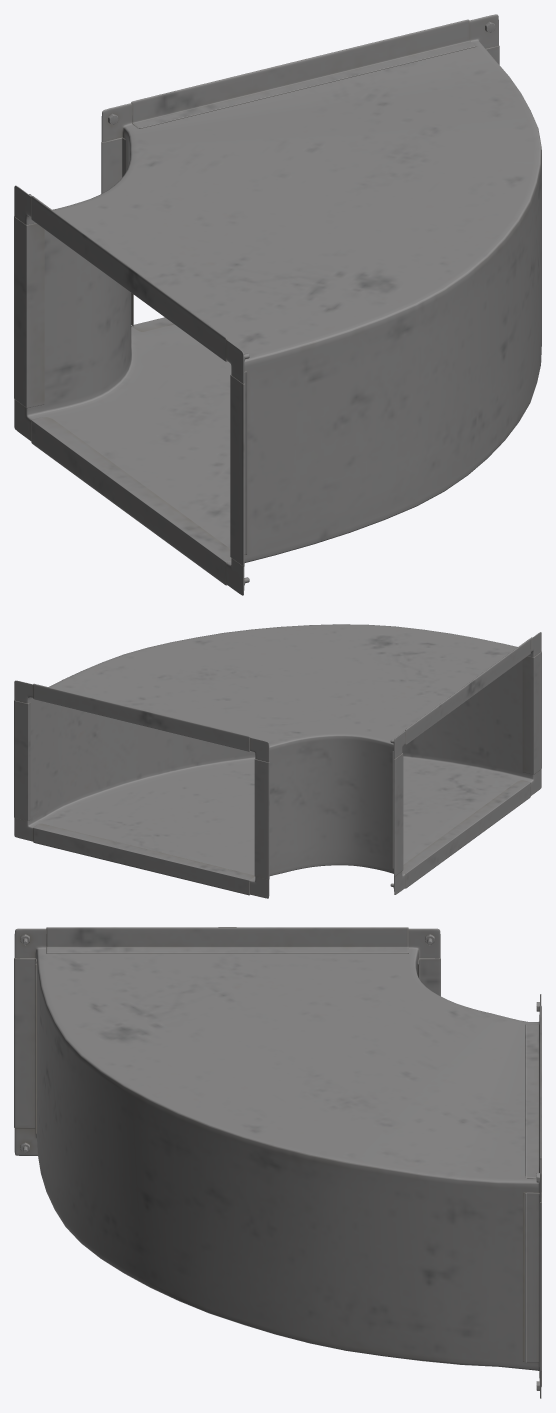
The model's file is SM_Ventilation_Stack04.fbx.
The picture shows the model from 3 angles, top to bottom: view 1: azimuth 30°, elevation 25°; view 2: azimuth 150°, elevation 25°; view 3: azimuth 270°, elevation 25°; orthographic projection. The views are drawn at different scales.
Visible parts, largest first — view 1: SM_Ventilation_Stack04_LOD0; view 2: SM_Ventilation_Stack04_LOD0; view 3: SM_Ventilation_Stack04_LOD0.
Part boxes in pixels (box(x1,y1,x2,y2)): SM_Ventilation_Stack04_LOD0: box(14, 14, 541, 595); SM_Ventilation_Stack04_LOD0: box(14, 624, 541, 898); SM_Ventilation_Stack04_LOD0: box(14, 927, 541, 1398).
Size of the model in its own units: 111 by 101 by 48.7.
